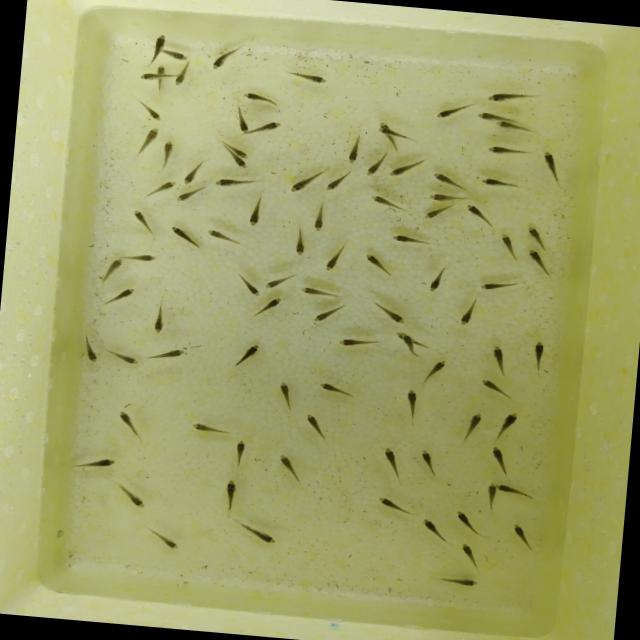fingerling: (363, 296, 408, 326), (280, 64, 330, 88), (483, 87, 536, 107), (322, 240, 352, 274), (387, 156, 426, 182), (71, 453, 118, 474), (477, 376, 516, 401), (380, 444, 404, 484), (238, 524, 278, 548), (310, 300, 348, 325), (145, 344, 187, 366), (209, 44, 242, 72), (362, 252, 396, 278), (452, 508, 483, 536), (146, 527, 181, 551), (275, 452, 303, 482), (508, 521, 536, 551), (286, 168, 318, 194), (454, 540, 480, 572), (336, 334, 382, 352), (186, 420, 232, 438), (419, 516, 448, 544), (120, 484, 150, 511), (256, 295, 288, 320), (104, 284, 136, 309), (434, 100, 472, 121), (136, 124, 160, 157), (148, 302, 170, 338), (235, 341, 262, 370), (131, 98, 165, 121), (416, 446, 440, 478), (368, 192, 404, 213), (78, 332, 100, 366), (496, 411, 520, 442), (144, 177, 176, 200), (98, 254, 124, 282), (524, 248, 550, 276), (116, 408, 142, 436), (423, 358, 448, 387), (494, 482, 536, 499), (462, 410, 484, 442), (247, 193, 266, 230), (375, 494, 410, 514), (130, 208, 158, 233), (522, 224, 550, 249), (402, 386, 422, 421), (213, 174, 256, 190), (104, 348, 140, 367), (168, 224, 199, 246), (230, 105, 252, 136), (220, 478, 240, 512), (302, 412, 326, 440), (229, 437, 250, 469), (478, 278, 520, 294), (425, 265, 447, 295), (488, 444, 510, 474), (540, 150, 562, 180), (276, 379, 296, 412), (458, 298, 480, 328), (421, 203, 454, 223), (484, 144, 531, 158), (205, 227, 243, 244), (236, 276, 264, 299), (262, 271, 294, 291), (436, 574, 481, 588), (474, 108, 516, 123), (180, 160, 203, 187), (478, 176, 522, 190), (492, 120, 536, 134), (298, 286, 342, 300), (431, 170, 465, 188), (315, 380, 351, 397), (530, 339, 548, 373), (464, 203, 493, 224), (488, 344, 507, 376), (427, 191, 471, 204), (240, 90, 278, 105), (160, 138, 176, 173), (392, 233, 435, 246), (175, 186, 205, 204), (324, 172, 348, 194), (363, 153, 385, 177), (498, 232, 518, 258), (124, 250, 161, 264), (346, 132, 361, 166), (254, 118, 282, 136), (172, 64, 192, 88), (152, 30, 166, 64), (294, 224, 308, 258), (399, 331, 415, 356), (312, 205, 326, 232), (484, 482, 498, 507), (376, 126, 410, 136), (136, 70, 156, 86), (163, 50, 191, 61), (234, 157, 248, 171), (154, 62, 168, 74), (236, 150, 252, 160)
